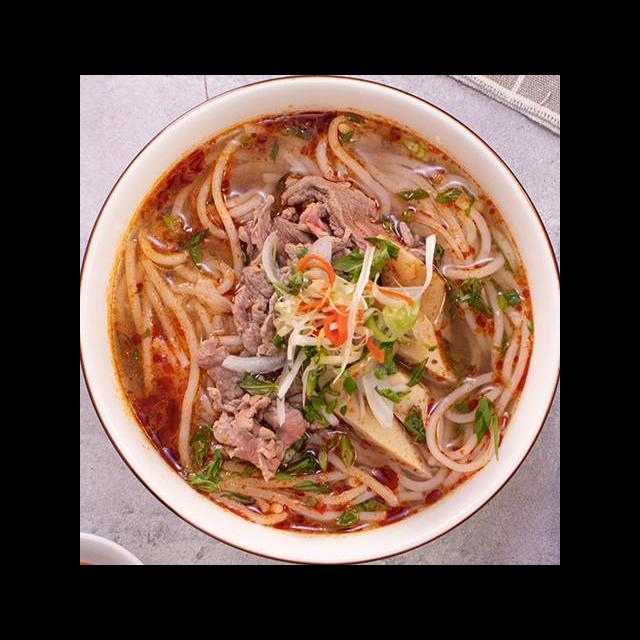bun: (164, 105, 514, 282), (356, 312, 530, 515), (154, 426, 438, 542), (109, 198, 212, 454)
bun bo: (114, 140, 548, 532)
thit bo: (356, 272, 470, 405), (211, 186, 310, 315), (158, 206, 260, 312), (344, 232, 446, 321), (277, 228, 383, 309)
